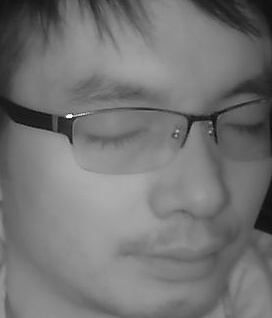blink: (87, 126, 146, 148), (225, 118, 269, 140)
glass: (65, 102, 192, 174), (209, 96, 272, 163)
mouth: (126, 229, 224, 286)
